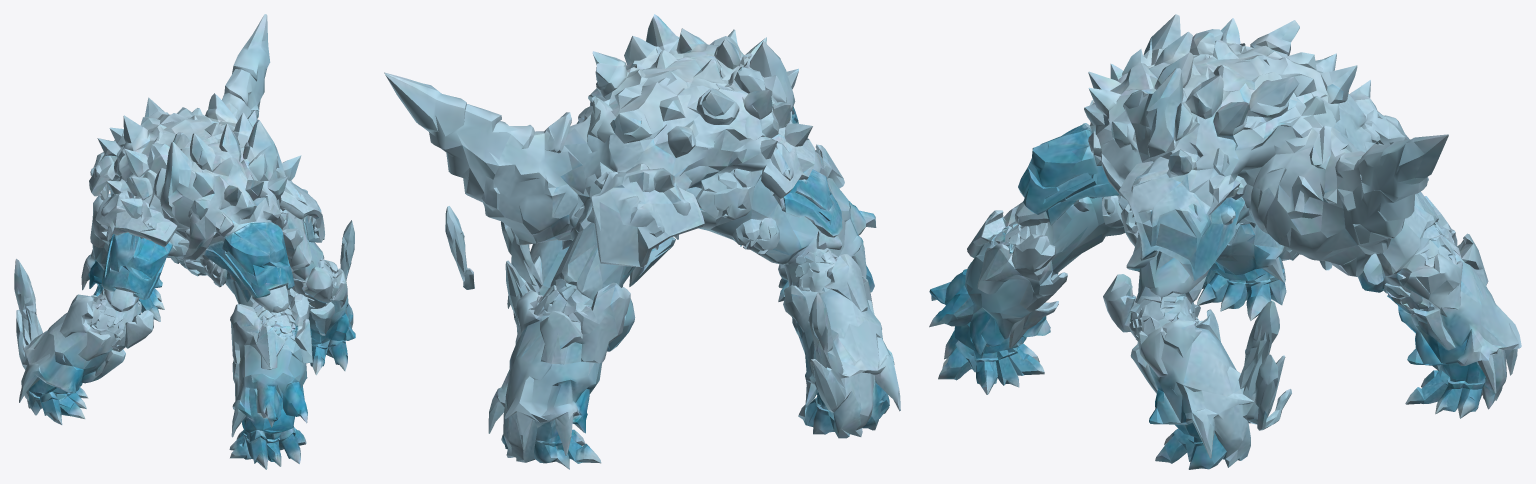
File: fb_frost.glb
3 views of the same model, side by side, from view 1: azimuth 30°, elevation 25°; view 2: azimuth 150°, elevation 25°; view 3: azimuth 270°, elevation 25° (orthographic). The views are drawn at different scales.
Bounding box in the file's own units: 1.68 × 1.23 × 1.9.
Materials: 1 (1 with a texture image).
